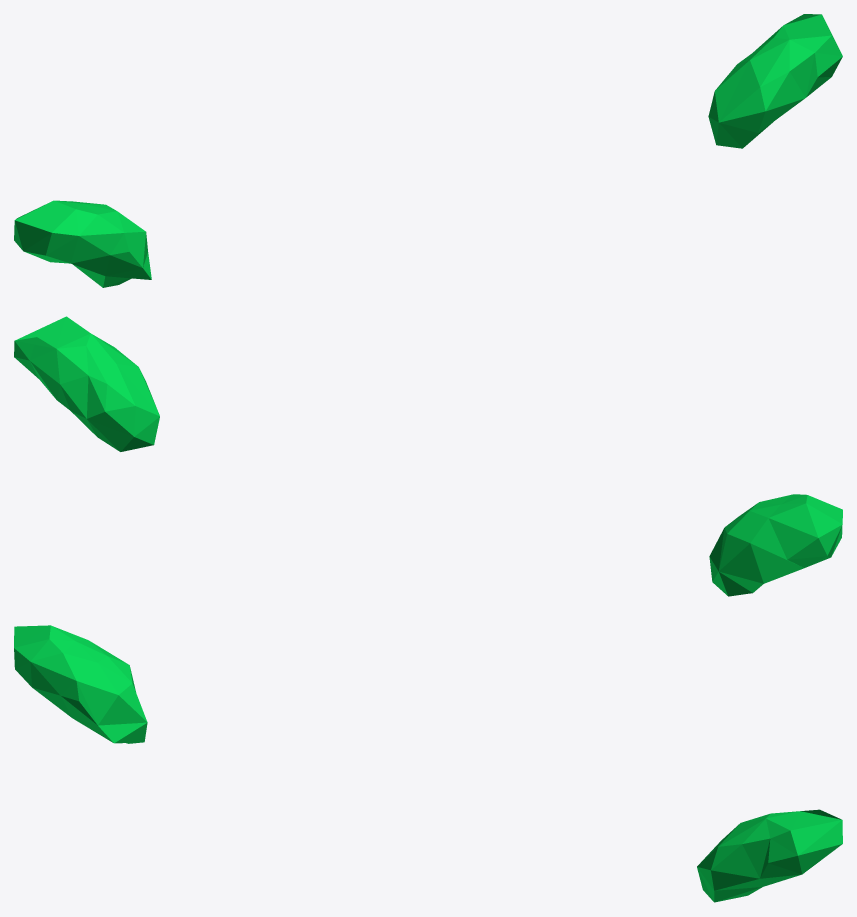
Rendered from 18-AHiPC-amygdalohippocampal area, parvicellular part-('0.0000', '1.0000', '0.3804').obj.
3 views of the same model, one above another, from view 1: azimuth 30°, elevation 25°; view 2: azimuth 150°, elevation 25°; view 3: azimuth 330°, elevation 25° (orthographic).
Bounding box in the file's own units: 98.24 × 12.14 × 8.71.
